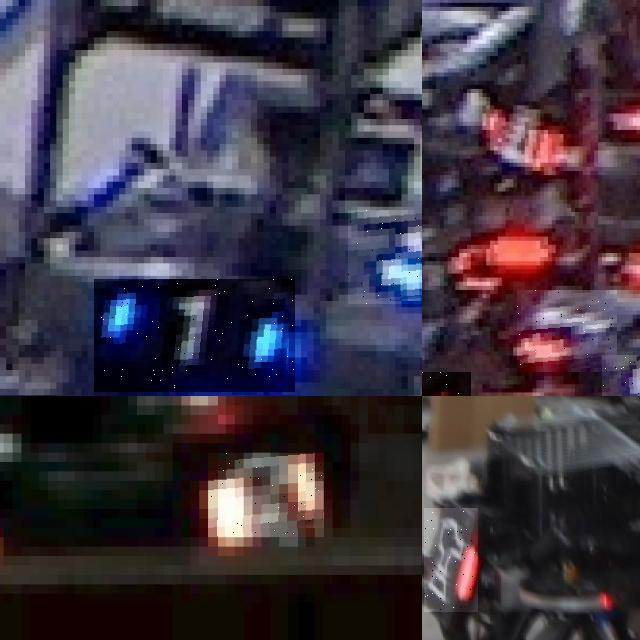B1: (94, 279, 295, 392), (348, 210, 422, 304)
R1: (517, 290, 617, 372)
Rs: (208, 453, 324, 537), (424, 508, 478, 612)
